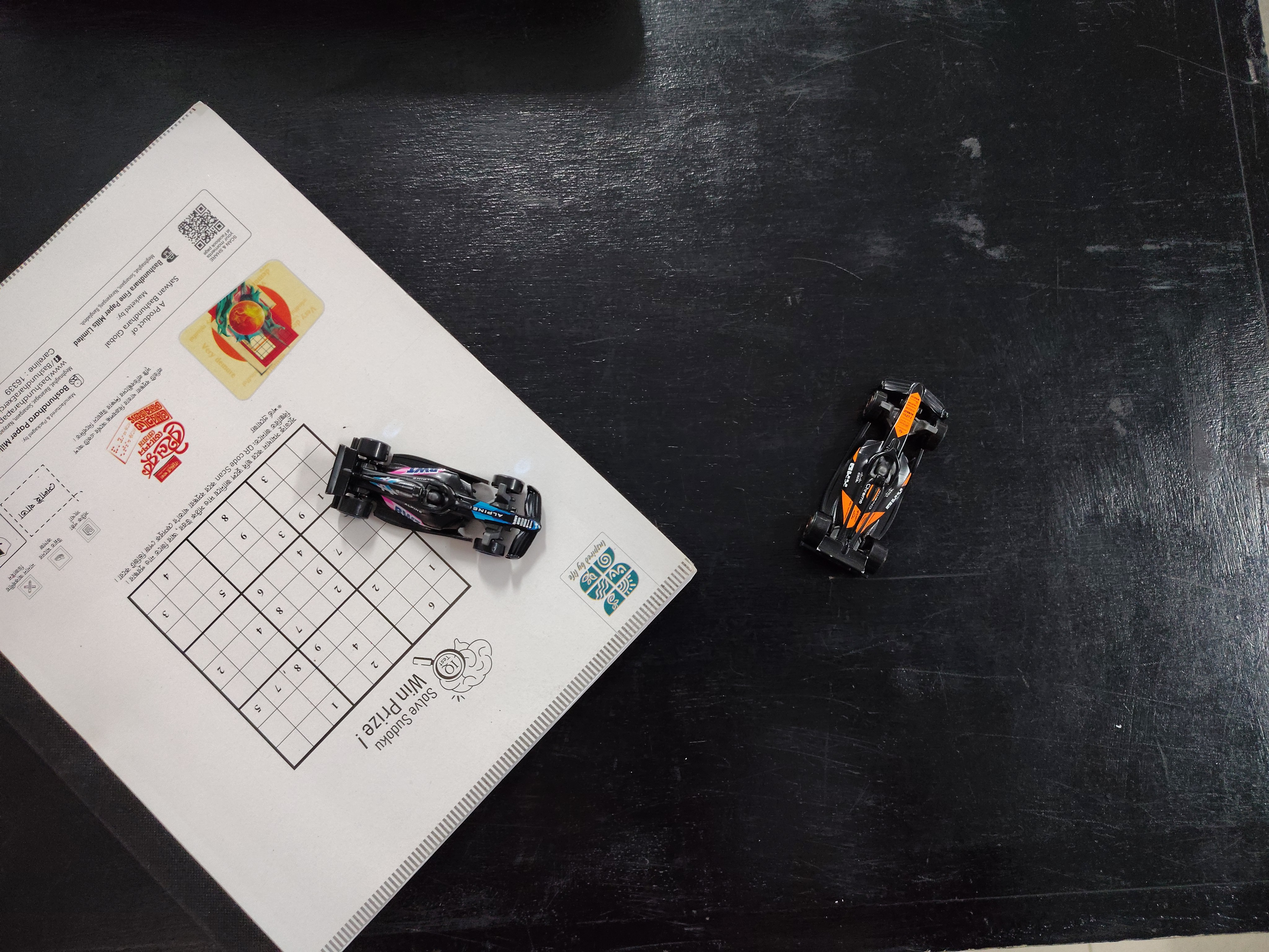Alpine A524: (277, 408, 592, 590)
McLaren MCL40: (700, 316, 1002, 595)
